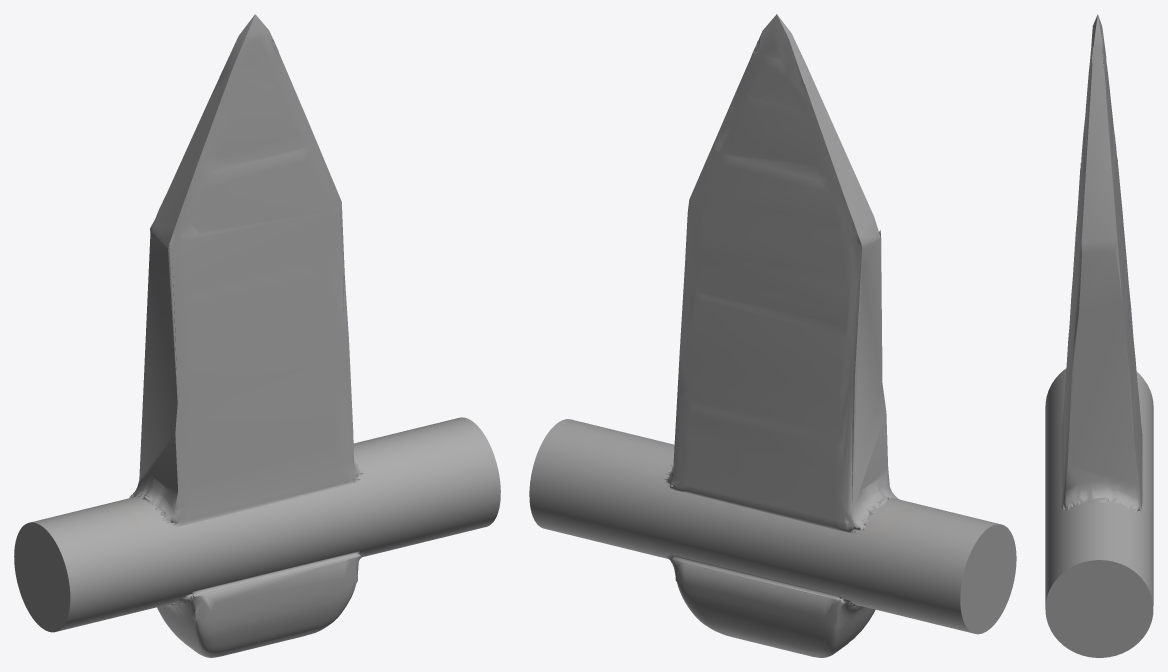
3 views of the same model, side by side, from view 1: azimuth 30°, elevation 25°; view 2: azimuth 150°, elevation 25°; view 3: azimuth 270°, elevation 25° (orthographic). The views are drawn at different scales.
Parts seen in each view (by area): view 1: MeshDrawObject; view 2: MeshDrawObject; view 3: MeshDrawObject.
Part boxes in pixels (x1=…): MeshDrawObject: x1=14, y1=14, x2=500, y2=657; MeshDrawObject: x1=529, y1=14, x2=1016, y2=657; MeshDrawObject: x1=1045, y1=14, x2=1153, y2=657.
Size of the model in its own units: 129 by 180 by 29.26.
1 material, 1 textured.
